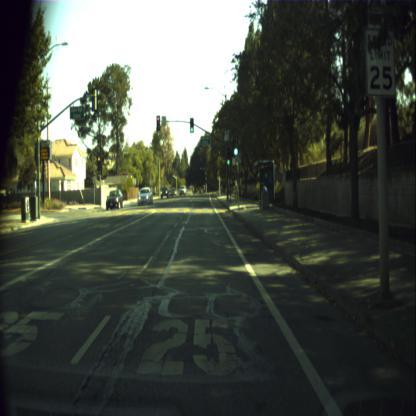Green: (233, 134, 238, 156), (226, 146, 230, 164), (190, 116, 194, 132)
Red: (96, 154, 102, 170), (156, 115, 160, 131)
